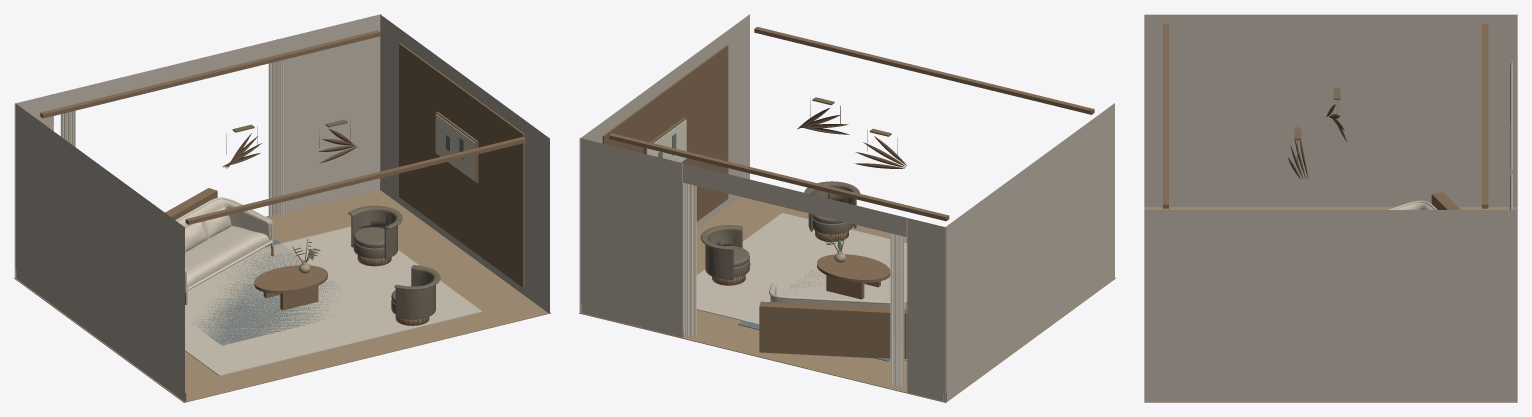
The model's file is great-2.glb.
3 views of the same model, side by side, from view 1: azimuth 30°, elevation 25°; view 2: azimuth 150°, elevation 25°; view 3: azimuth 270°, elevation 25° (orthographic). The views are drawn at different scales.
Visible parts, largest first — view 1: DESIGN | great removable wall finish, DESIGN | Great room primary ground, DESIGN | Retreat timber wall plane, DESIGN | great floor finish, DESIGN | Secondary occupied textile field, DESIGN | Great room sofa facing conversation, DESIGN | Required Bellustar swivel chair one, DESIGN | Retreat concealed light edge.001, DESIGN | Retreat concealed light edge, DESIGN | Great room soft window edge.001, DESIGN | Required Bellustar swivel chair two, DESIGN | Great room conversation table top (+5 smaller); view 2: DESIGN | great removable wall finish, DESIGN | Great room primary ground, DESIGN | Retreat timber wall plane, DESIGN | great floor finish, DESIGN | Low plane behind retreat sofa, DESIGN | Retreat concealed light edge, DESIGN | Retreat concealed light edge.001, DESIGN | Required Bellustar swivel chair one, DESIGN | Great room soft window edge, DESIGN | Great room soft window edge.001, DESIGN | Great room conversation table top, DESIGN | Required Bellustar swivel chair two (+5 smaller); view 3: DESIGN | great removable wall finish, DESIGN | great floor finish, DESIGN | Retreat concealed light edge.001, DESIGN | Retreat concealed light edge, DESIGN | Great room soft window edge, DESIGN | Low plane behind retreat sofa.
Part boxes in pixels (x1,y1,x2,y2): DESIGN | great removable wall finish: (14,14,549,401); DESIGN | Great room primary ground: (185,226,482,376); DESIGN | Retreat timber wall plane: (399,43,524,287); DESIGN | great floor finish: (14,190,550,402); DESIGN | Secondary occupied textile field: (192,239,340,345); DESIGN | Great room sofa facing conversation: (175,197,273,304); DESIGN | Required Bellustar swivel chair one: (348,205,402,266); DESIGN | Retreat concealed light edge.001: (40,30,380,118); DESIGN | Retreat concealed light edge: (185,137,525,224); DESIGN | Great room soft window edge.001: (268,60,283,216); DESIGN | Required Bellustar swivel chair two: (391,265,440,325); DESIGN | Great room conversation table top: (254,265,327,293); DESIGN | great removable wall finish: (579,14,1114,401); DESIGN | Great room primary ground: (696,213,907,360); DESIGN | Retreat timber wall plane: (602,45,728,221); DESIGN | great floor finish: (579,196,1115,402); DESIGN | Low plane behind retreat sofa: (759,301,907,359); DESIGN | Retreat concealed light edge: (754,26,1094,114); DESIGN | Retreat concealed light edge.001: (609,133,949,221); DESIGN | Required Bellustar swivel chair one: (700,225,750,285); DESIGN | Great room soft window edge: (890,233,904,387); DESIGN | Great room soft window edge.001: (683,182,696,337); DESIGN | Great room conversation table top: (817,254,890,282); DESIGN | Required Bellustar swivel chair two: (804,181,860,241); DESIGN | great removable wall finish: (1144,14,1517,401); DESIGN | great floor finish: (1144,207,1517,402); DESIGN | Retreat concealed light edge.001: (1482,24,1488,208); DESIGN | Retreat concealed light edge: (1163,24,1168,208); DESIGN | Great room soft window edge: (1509,59,1513,170); DESIGN | Low plane behind retreat sofa: (1431,192,1460,209).
Bounding box in the file's own units: 6 × 2.74 × 4.82.
